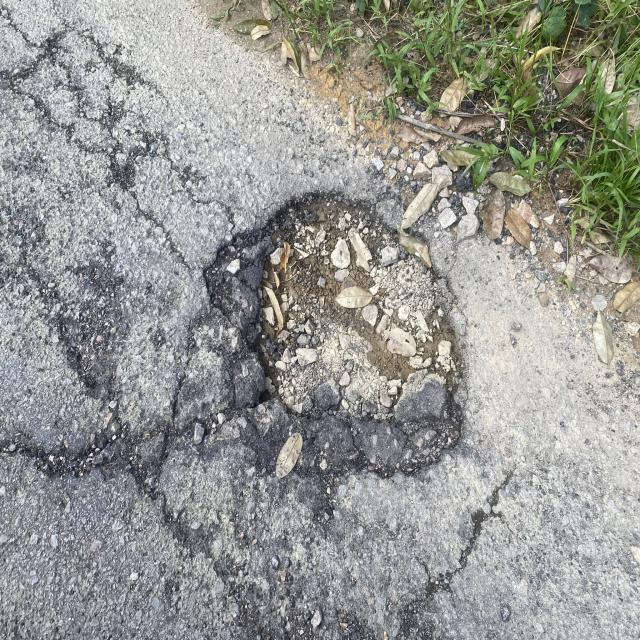pothole: (185, 165, 497, 531)
